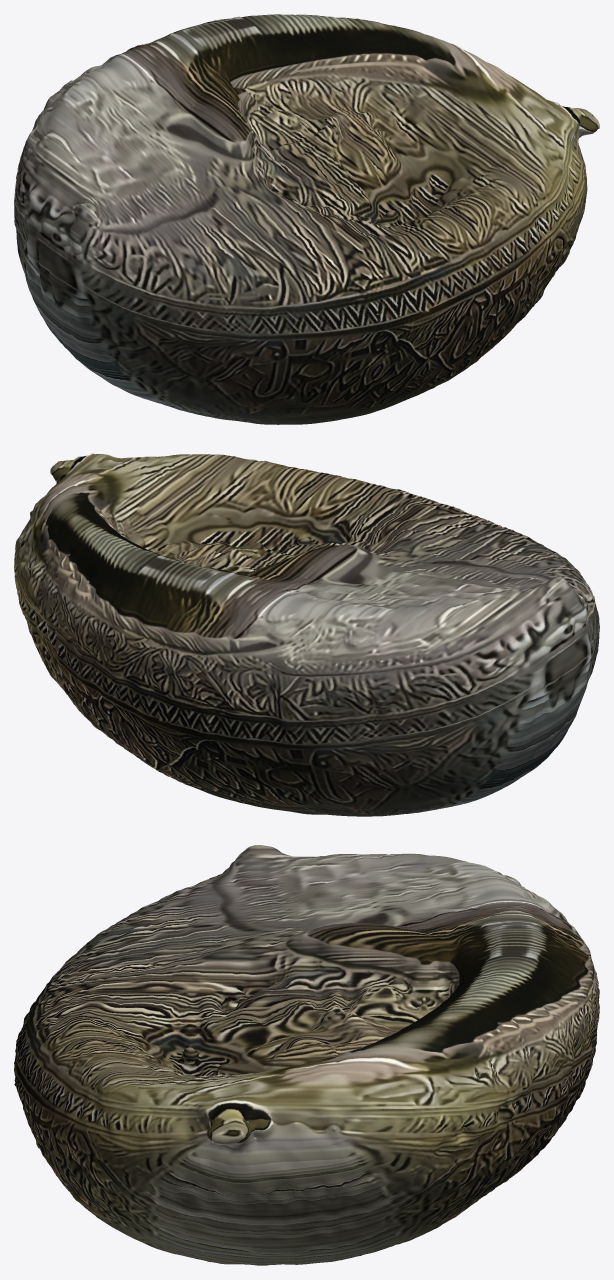
Rendered from kfl-2166.glb.
3 views of the same model, one above another, from view 1: azimuth 30°, elevation 25°; view 2: azimuth 150°, elevation 25°; view 3: azimuth 270°, elevation 25° (orthographic). The views are drawn at different scales.
Visible parts, largest first — view 1: kfl-2166; view 2: kfl-2166; view 3: kfl-2166.
Part boxes in pixels (box(x1,y1,x2,y2)): kfl-2166: box(14, 14, 599, 424); kfl-2166: box(14, 453, 599, 816); kfl-2166: box(14, 845, 599, 1265).
Bounding box in the file's own units: 0.9914 × 0.4948 × 0.8707.
1 material, 1 textured.
